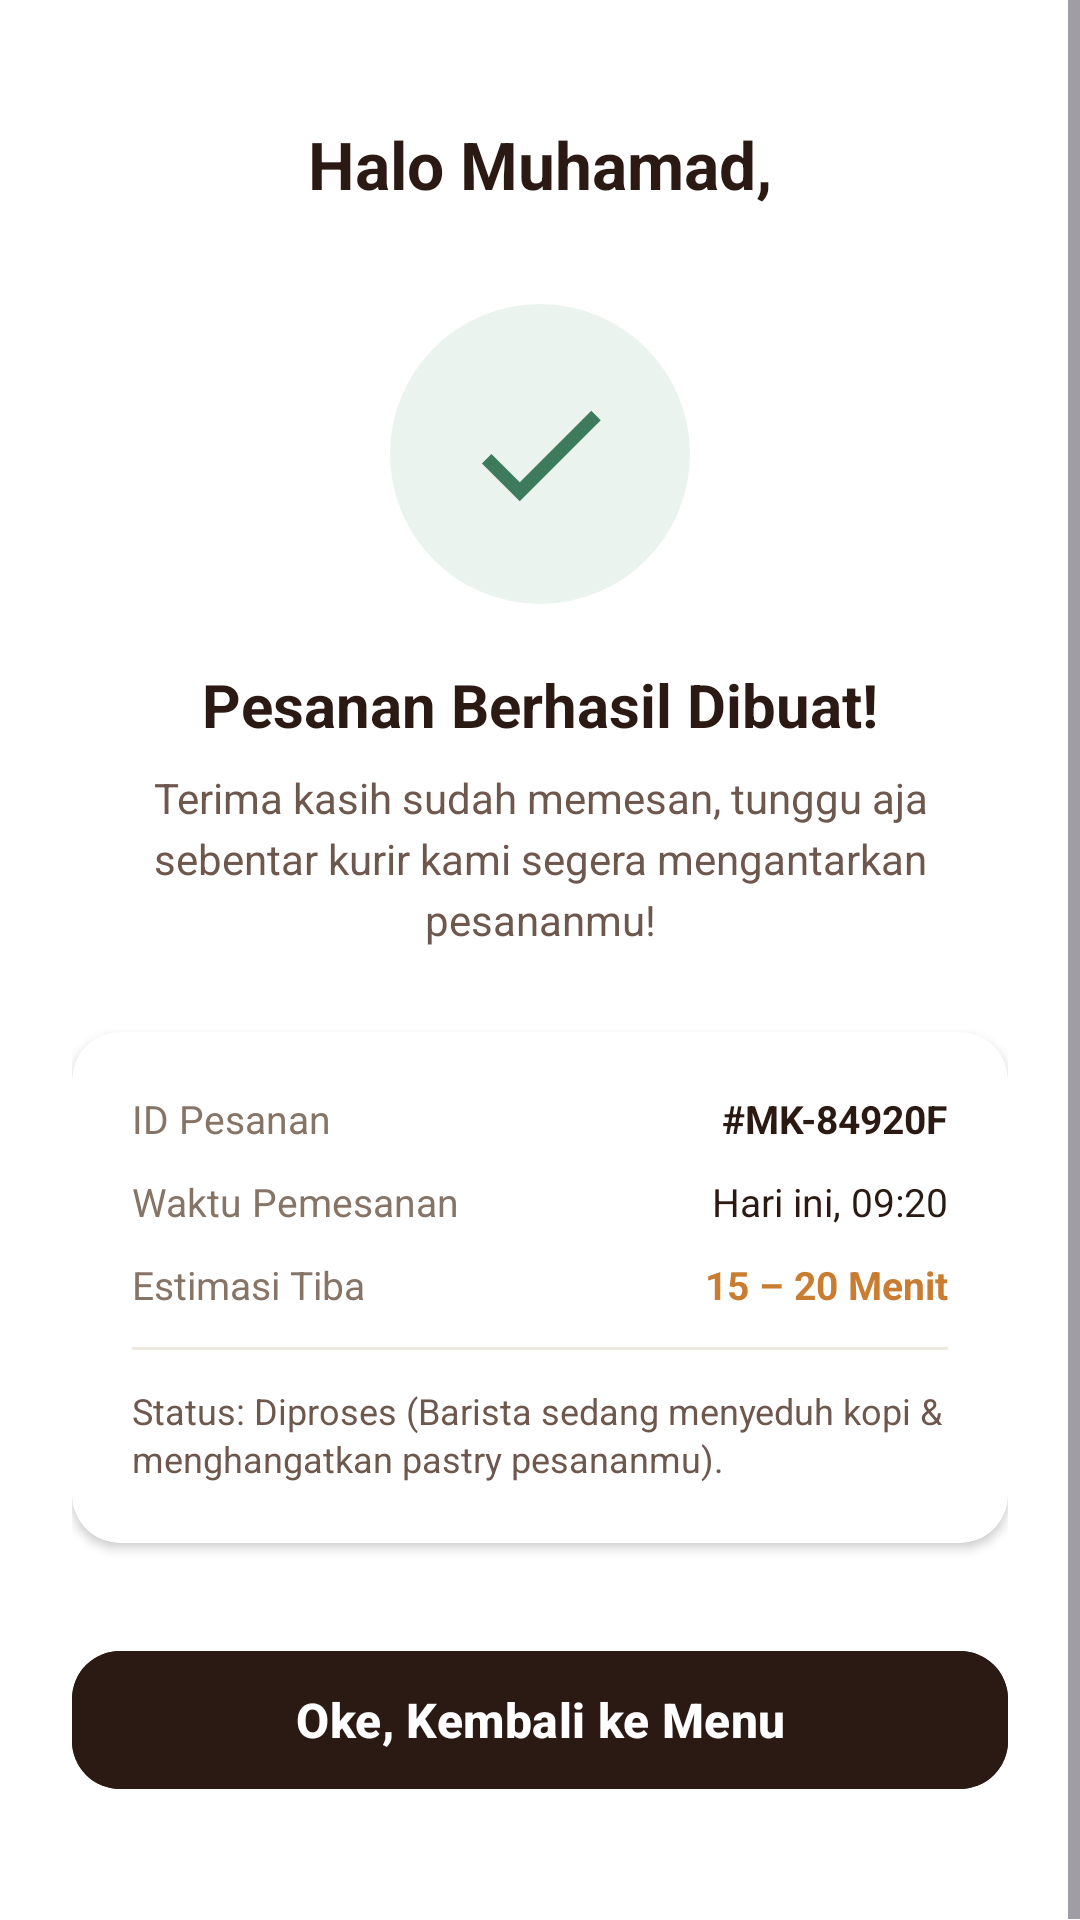

Named icons in this screenshot (1080 × 1920) and their bounding boxes, [left=x1, top=y1, right=x2, bottom=y2]:
Sukses: [left=482, top=411, right=601, bottom=501]
